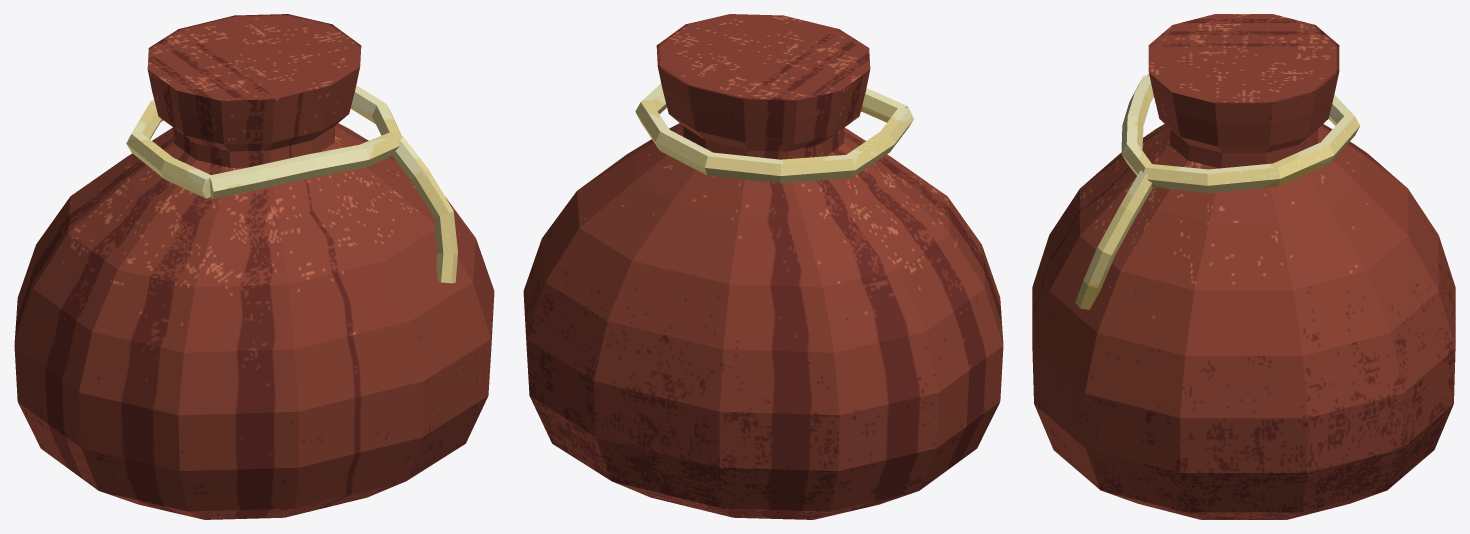
Rendered from coin_bag.glb.
3 renders of one model, left to right at view 1: azimuth 30°, elevation 25°; view 2: azimuth 150°, elevation 25°; view 3: azimuth 270°, elevation 25°, orthographic.
Visible parts, largest first — view 1: bag; view 2: bag; view 3: bag.
Boxes of the visible parts, bbox=[...] form: bag: bbox=[14, 14, 494, 519]; bag: bbox=[523, 14, 1003, 519]; bag: bbox=[1032, 14, 1455, 519].
Size of the model in its own units: 0.09 by 0.086 by 0.08.
1 material, 1 textured.
